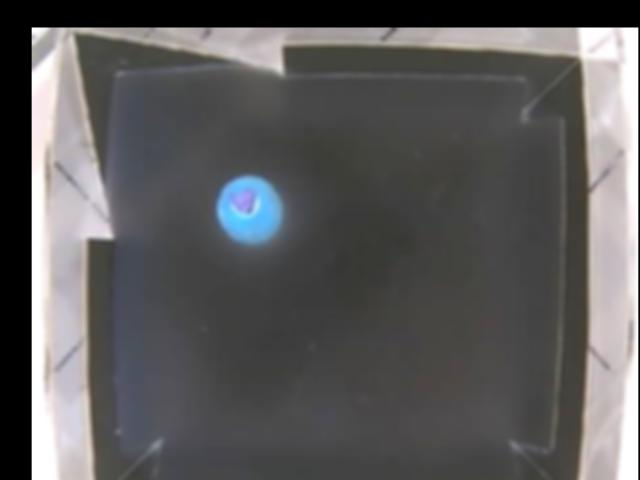Carrot: (218, 174, 282, 243)
